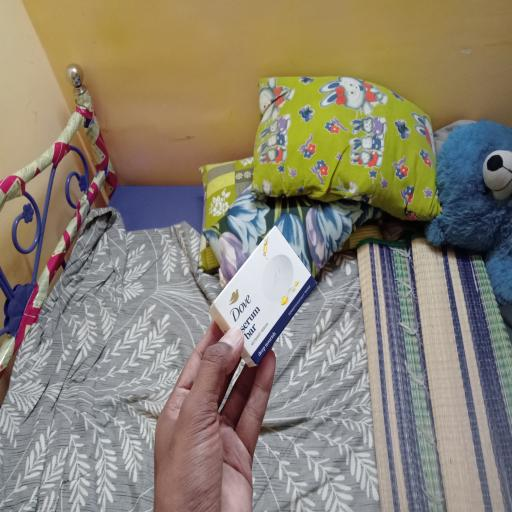Dove`1: (196, 222, 332, 373)
